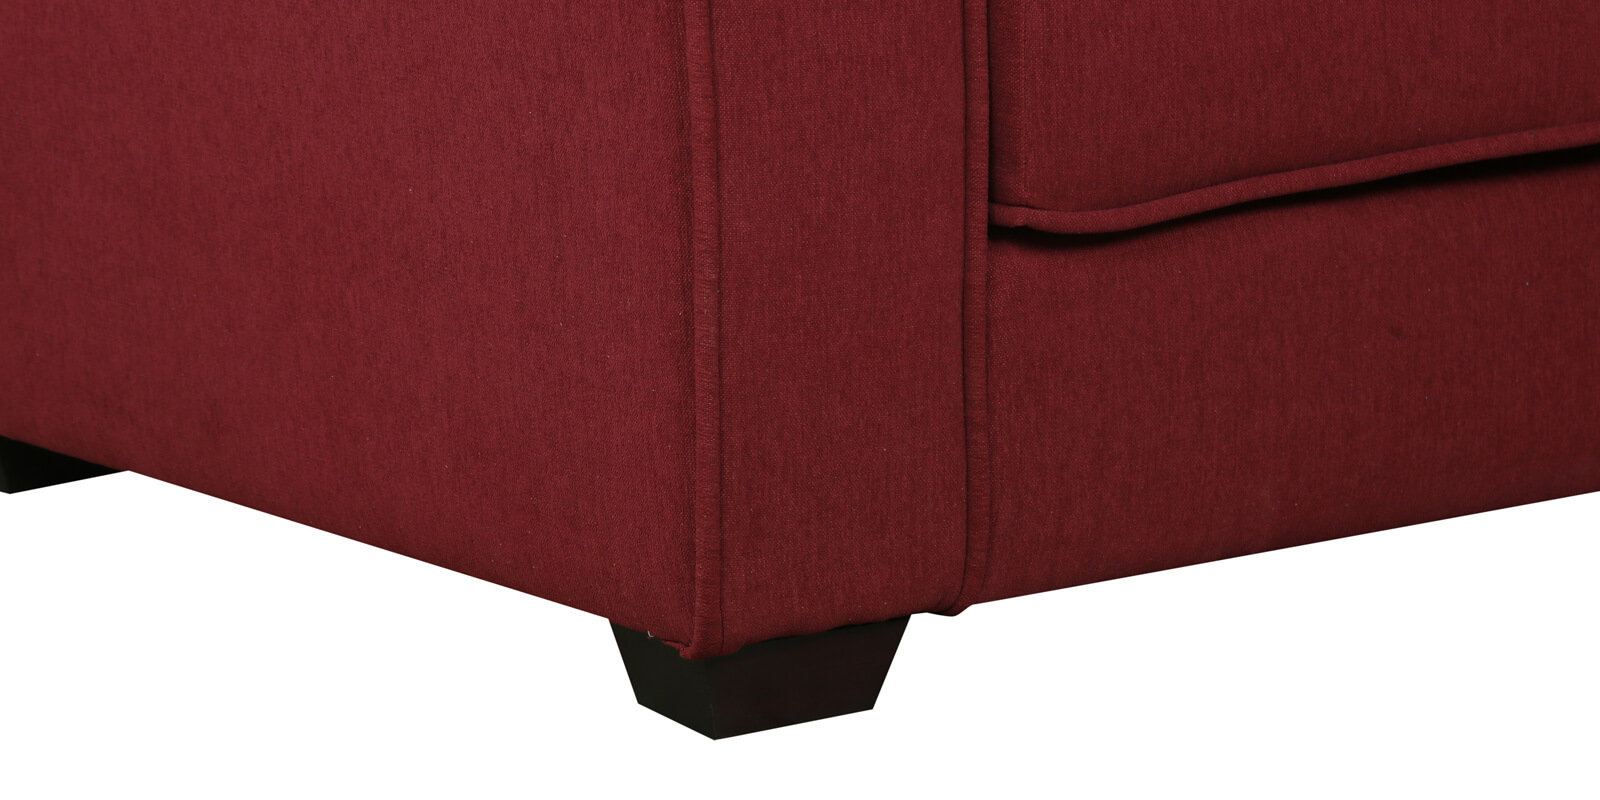Hugo Three Seater Sofa in Garnet Red Colour by CasaCraft: (8, 8, 1599, 744)
